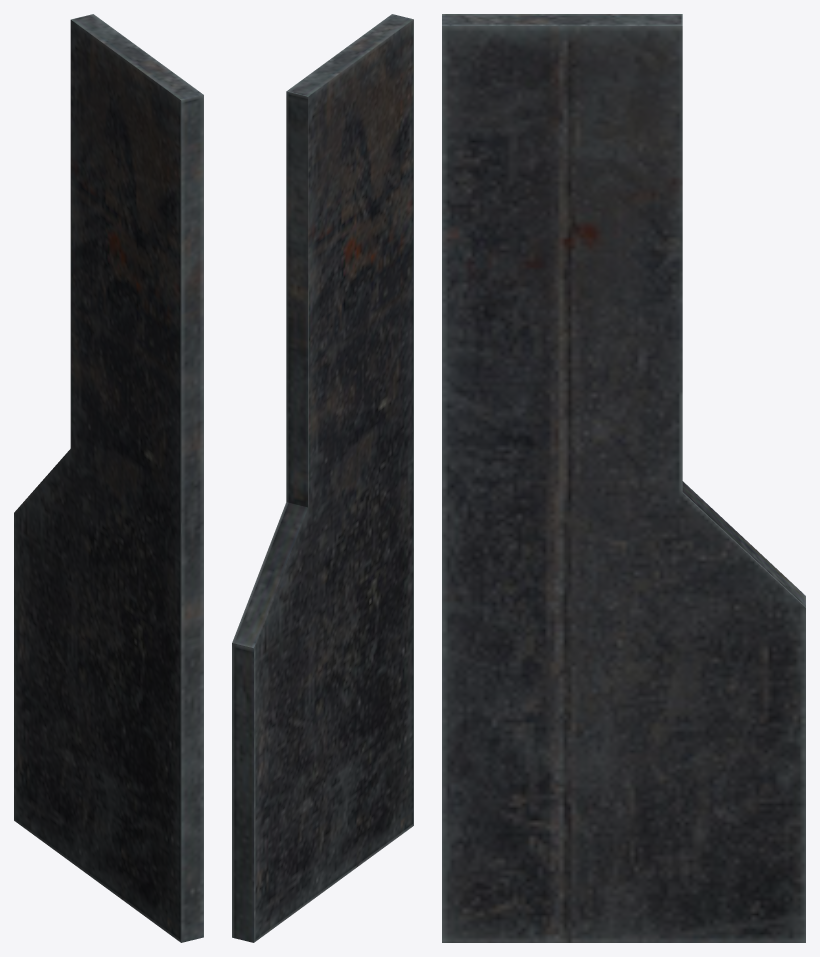
The model's file is Blind.FBX.
The picture shows the model from 3 angles, left to right: view 1: azimuth 30°, elevation 25°; view 2: azimuth 150°, elevation 25°; view 3: azimuth 270°, elevation 25°; orthographic projection. The views are drawn at different scales.
Parts seen in each view (by area): view 1: Blind; view 2: Blind; view 3: Blind.
Part boxes in pixels (x1=…): Blind: x1=14, y1=14, x2=203, y2=942; Blind: x1=232, y1=14, x2=413, y2=942; Blind: x1=442, y1=14, x2=805, y2=942.
Bounding box in the file's own units: 6.4 × 227 × 81.61.
